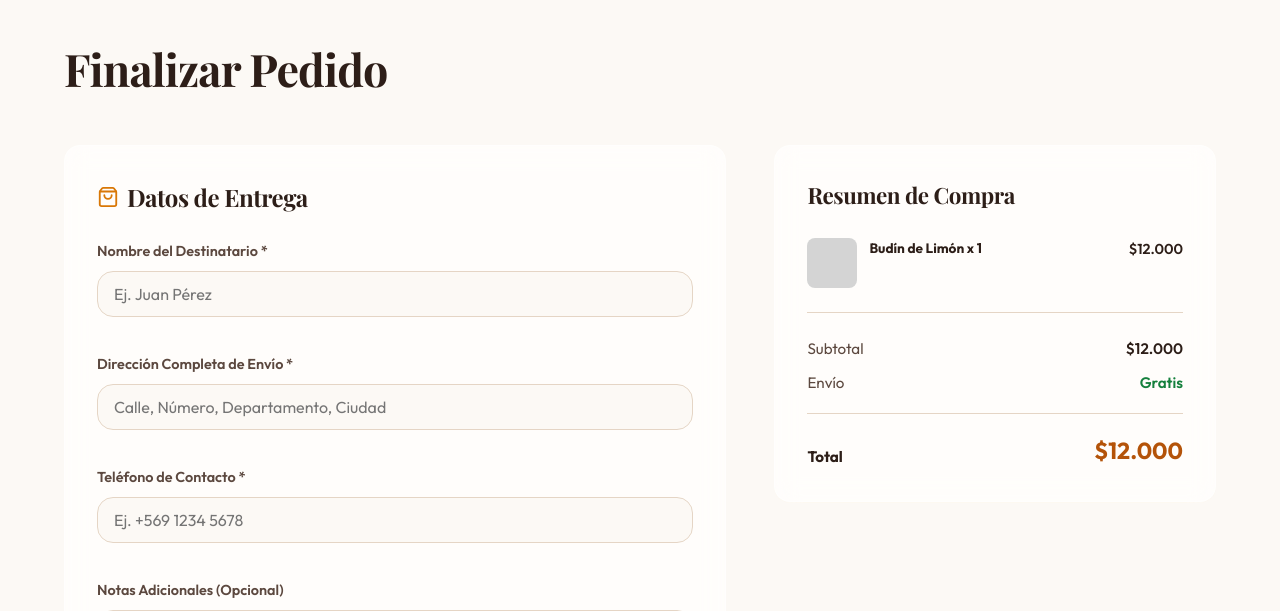
Test: Checkout › crea la orden con pago en efectivo al recibir por defecto
Type "Juan Pérez" into the field with placeholder "Ej. Juan Pérez" at {"x": 395, "y": 294}, box [97, 271, 693, 317]
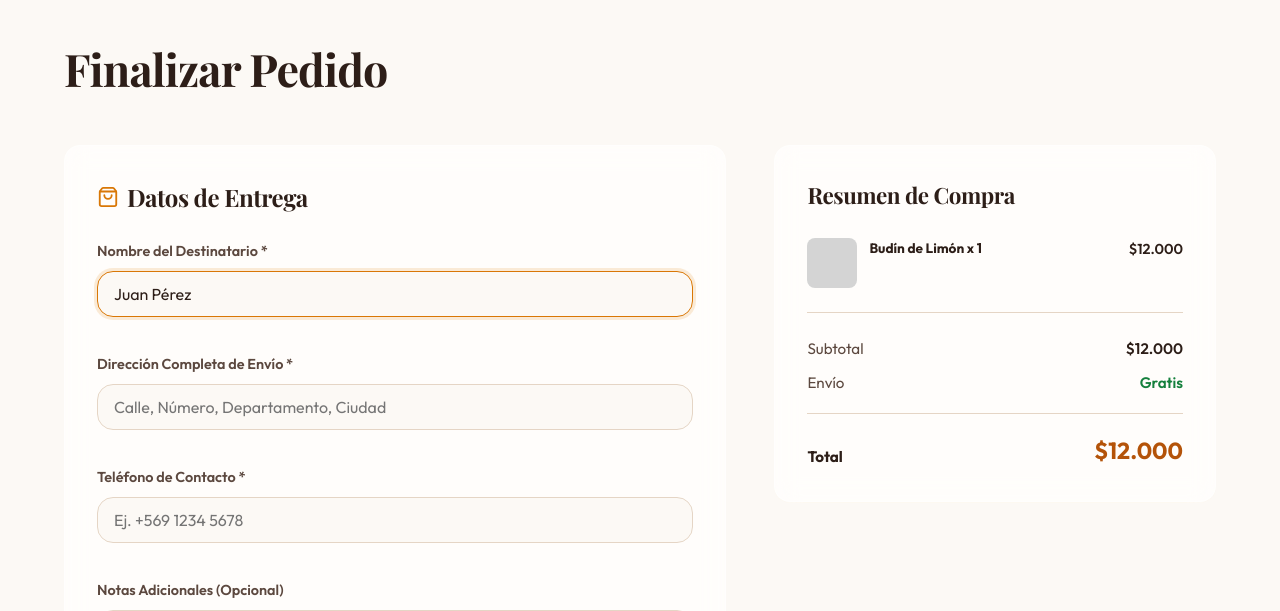
Type "Calle Falsa 123" into the field with placeholder "Calle, Número, Departamento, Ciudad" at {"x": 395, "y": 407}, box [97, 384, 693, 430]
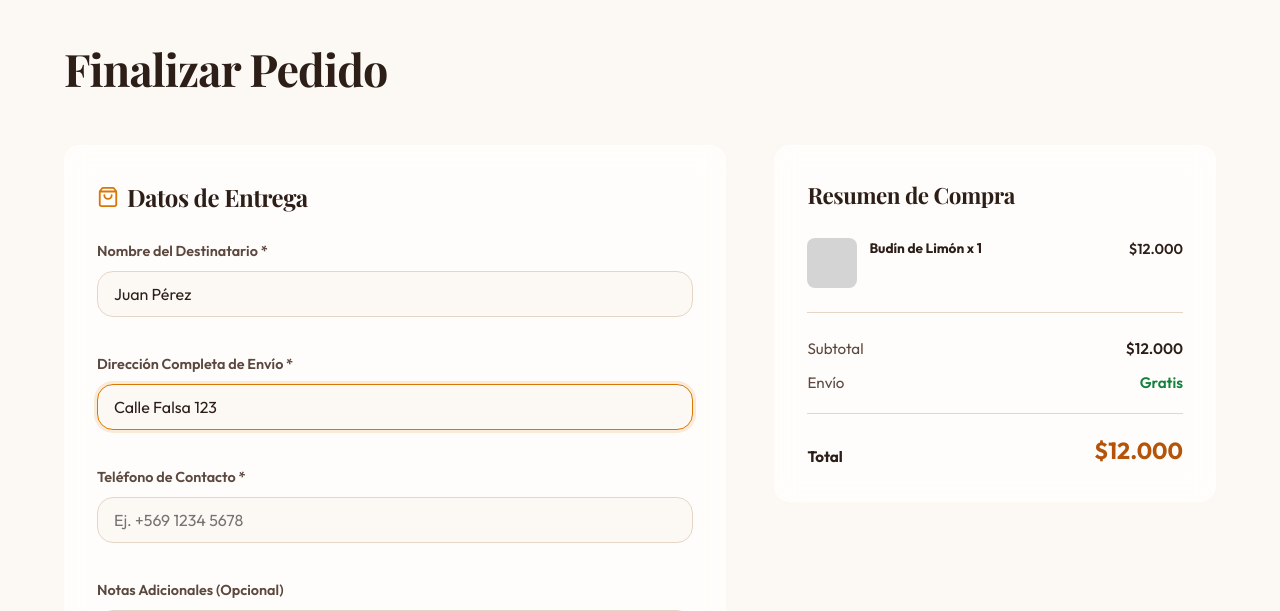
Type "3515555555" into the field with placeholder "Ej. +569 1234 5678" at {"x": 395, "y": 520}, box [97, 497, 693, 543]
(page scrolled)
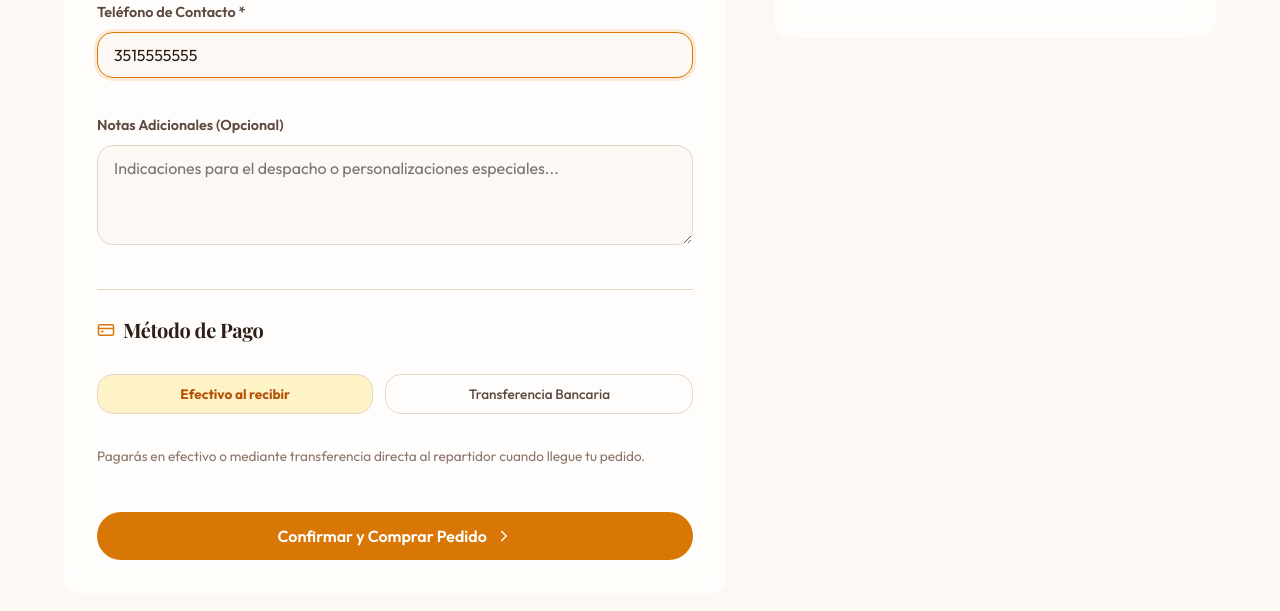
Click the button "Confirmar y Comprar Pedido" at {"x": 395, "y": 536}, box [97, 512, 693, 560]
(page scrolled)
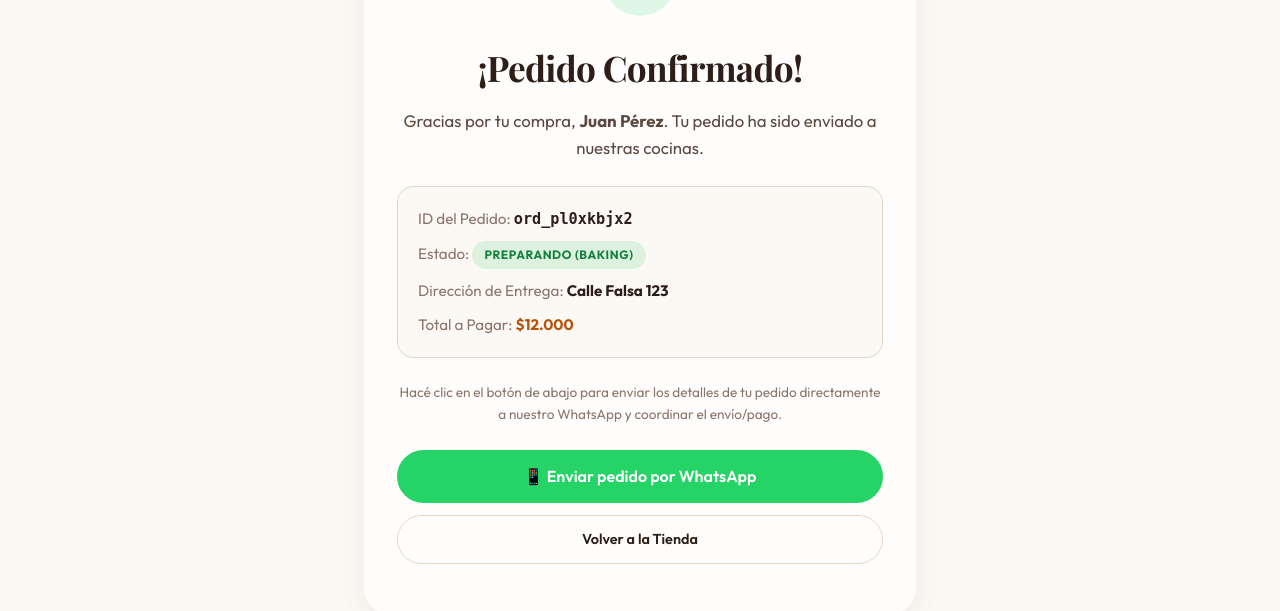
Expected: the heading "¡Pedido Confirmado!" is shown, [478, 44, 802, 91]
